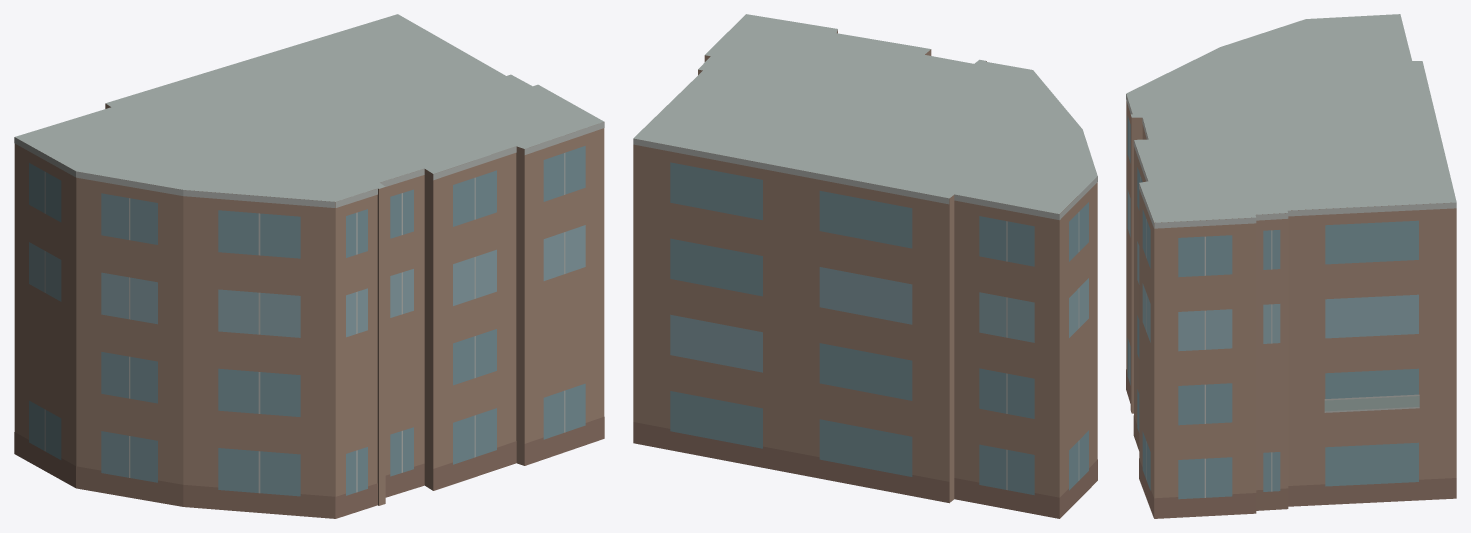
File: survey-upis-32667587.glb
The picture shows the model from 3 angles, left to right: view 1: azimuth 30°, elevation 25°; view 2: azimuth 150°, elevation 25°; view 3: azimuth 270°, elevation 25°; orthographic projection. The views are drawn at different scales.
Parts seen in each view (by area): view 1: survey-upis-32667587.tmp; view 2: survey-upis-32667587.tmp; view 3: survey-upis-32667587.tmp.
Part boxes in pixels (x1,y1,x2,y2): survey-upis-32667587.tmp: (14, 14, 604, 518); survey-upis-32667587.tmp: (633, 14, 1097, 518); survey-upis-32667587.tmp: (1126, 14, 1456, 518).
Size of the model in its own units: 18.61 by 12.3 by 12.46.
